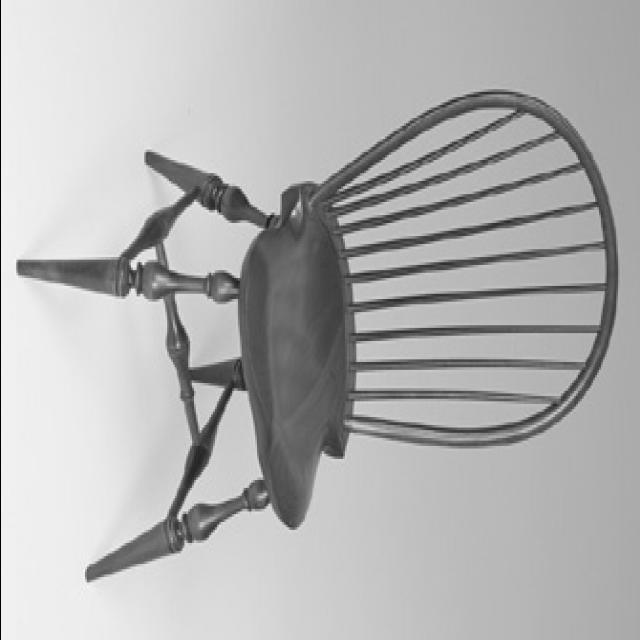chair: (15, 87, 623, 590)
